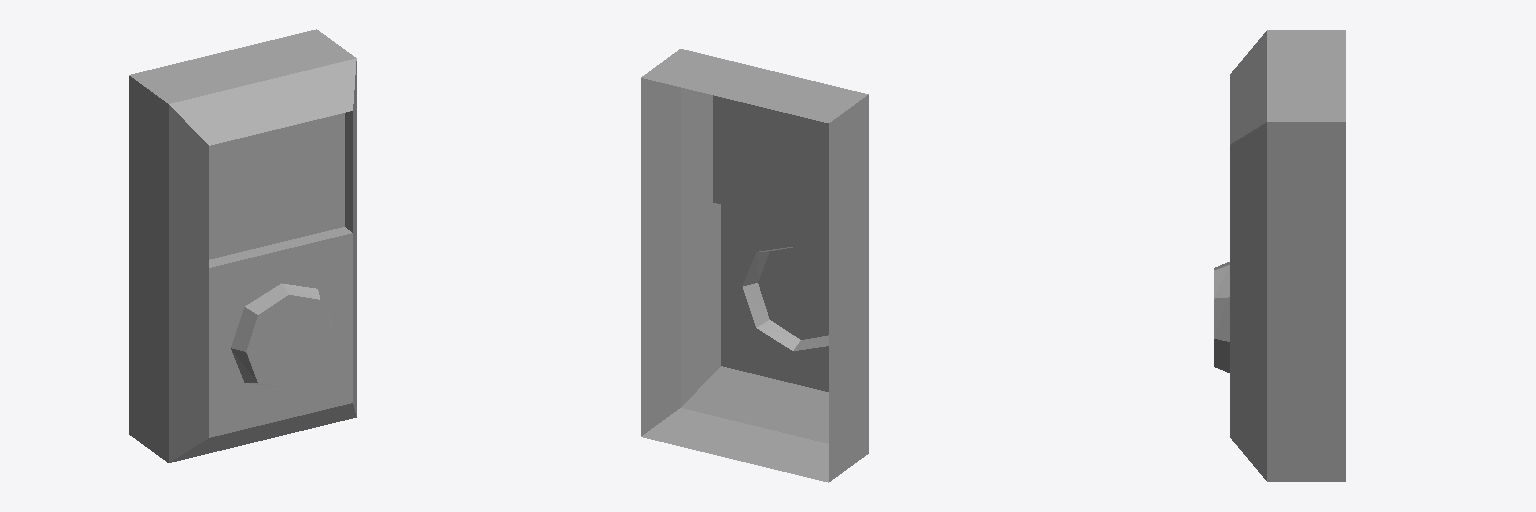
The model's file is Button.obj.
3 renders of one model, left to right at view 1: azimuth 30°, elevation 25°; view 2: azimuth 150°, elevation 25°; view 3: azimuth 270°, elevation 25°, orthographic.
Visible parts, largest first — view 1: gc0kgmocfy49; view 2: gc0kgmocfy49; view 3: gc0kgmocfy49.
Boxes of the visible parts, box(x1,y1,x2,y2) form: gc0kgmocfy49: box(129, 29, 356, 462); gc0kgmocfy49: box(641, 49, 868, 482); gc0kgmocfy49: box(1214, 30, 1345, 481).
Size of the model in its own units: 0.1479 by 0.2699 by 0.0903.